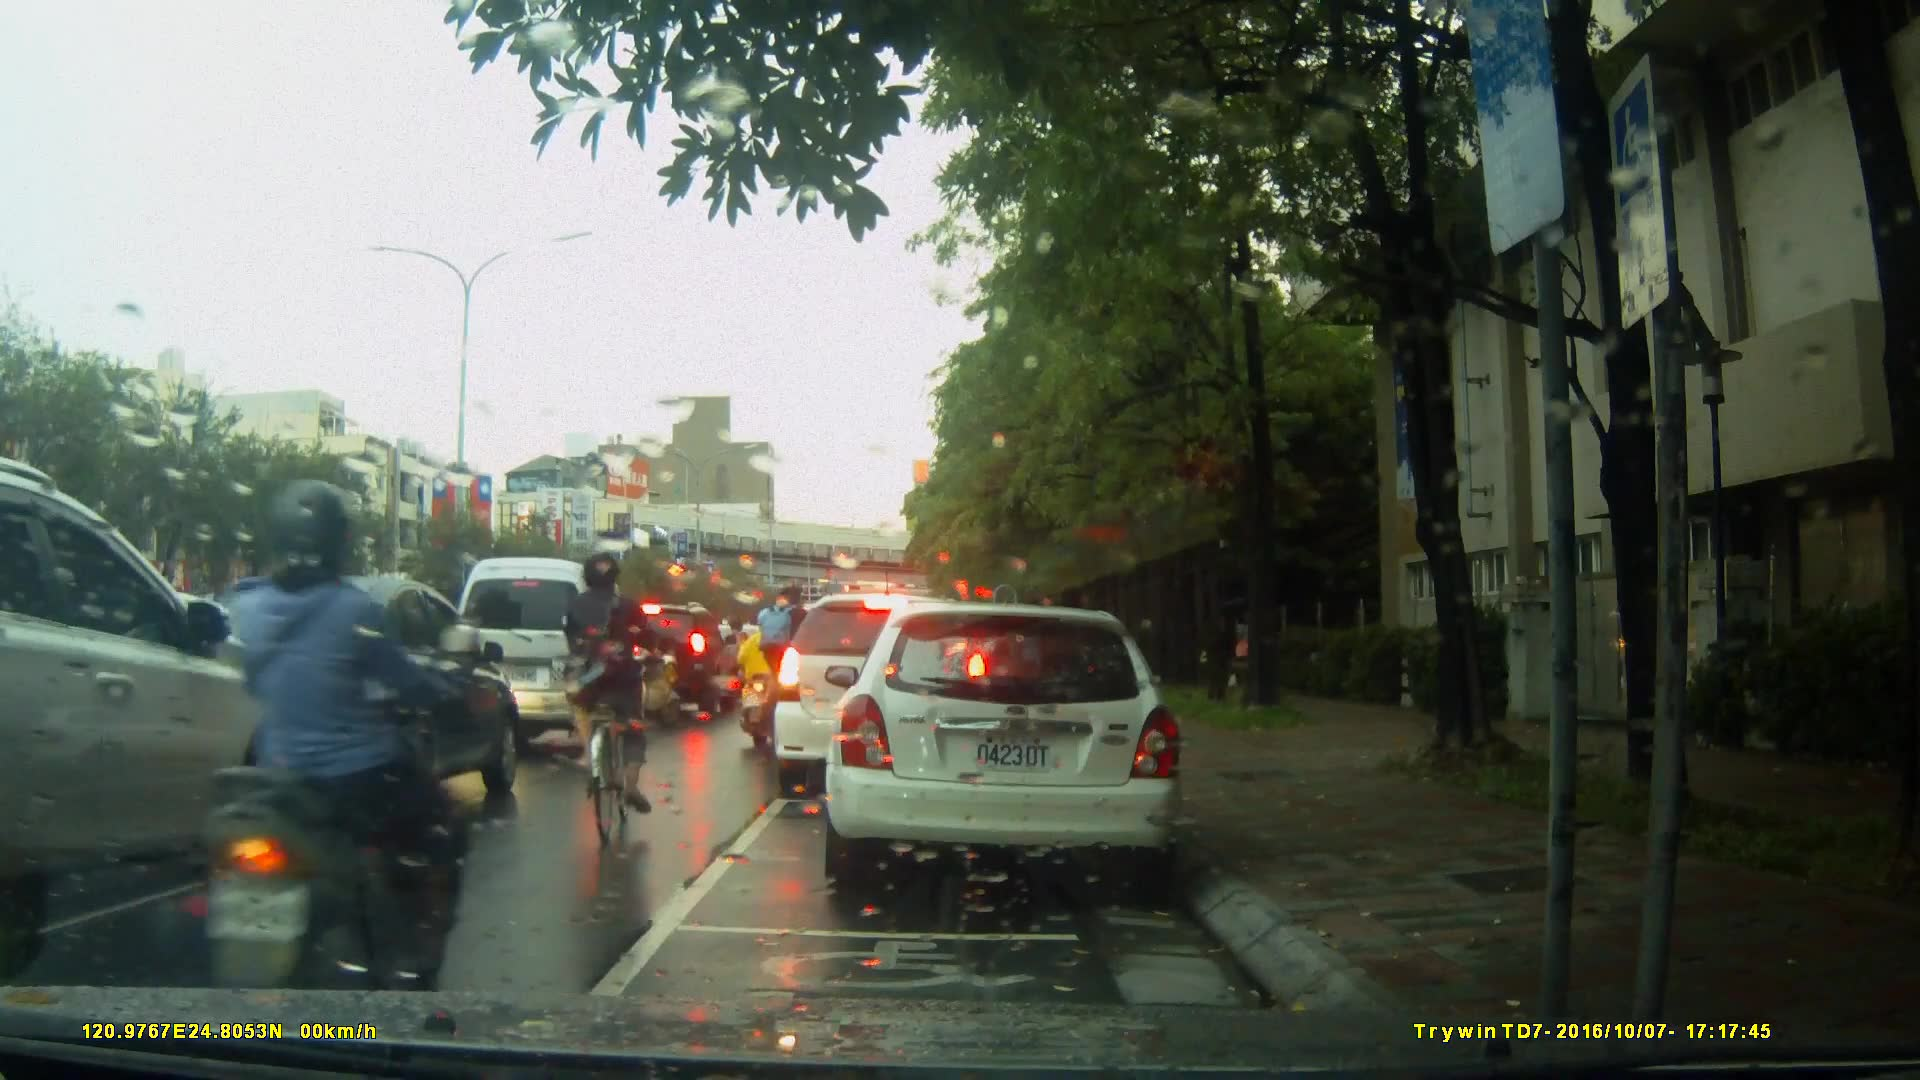rider: (168, 484, 468, 1002), (565, 550, 650, 849), (761, 579, 818, 734), (735, 603, 784, 740)
vehicle: (1, 449, 327, 987), (815, 593, 1204, 909), (180, 573, 530, 830), (770, 592, 991, 799), (448, 557, 647, 761), (601, 599, 743, 720)
